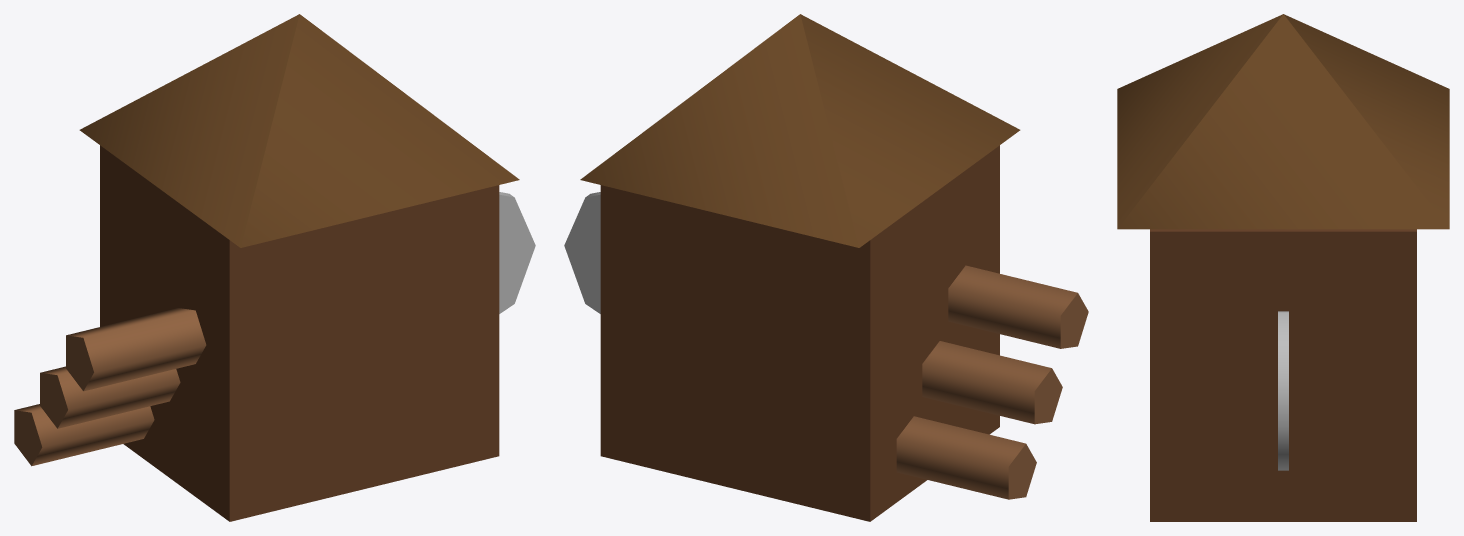
The model's file is lumber_mill.glb.
3 renders of one model, left to right at view 1: azimuth 30°, elevation 25°; view 2: azimuth 150°, elevation 25°; view 3: azimuth 270°, elevation 25°, orthographic. The views are drawn at different scales.
Visible parts, largest first — view 1: node_0, node_1, node_5, node_3, node_4, node_2; view 2: node_0, node_1, node_3, node_4, node_5, node_2; view 3: node_0, node_1, node_2.
Boxes of the visible parts, bbox=[...] form: node_0: bbox=[100, 145, 499, 521]; node_1: bbox=[79, 14, 519, 247]; node_5: bbox=[66, 308, 206, 391]; node_3: bbox=[14, 404, 154, 466]; node_4: bbox=[40, 366, 180, 428]; node_2: bbox=[499, 192, 535, 313]; node_0: bbox=[600, 145, 999, 521]; node_1: bbox=[580, 14, 1020, 247]; node_3: bbox=[896, 416, 1036, 499]; node_4: bbox=[922, 341, 1062, 424]; node_5: bbox=[948, 265, 1088, 348]; node_2: bbox=[564, 192, 600, 313]; node_0: bbox=[1150, 229, 1416, 521]; node_1: bbox=[1117, 14, 1449, 229]; node_2: bbox=[1278, 311, 1288, 470].
Size of the model in its own units: 0.535 by 0.455 by 0.3111.
